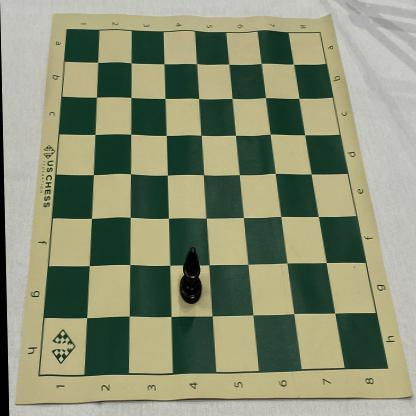black-bishop: (177, 248, 202, 305)
